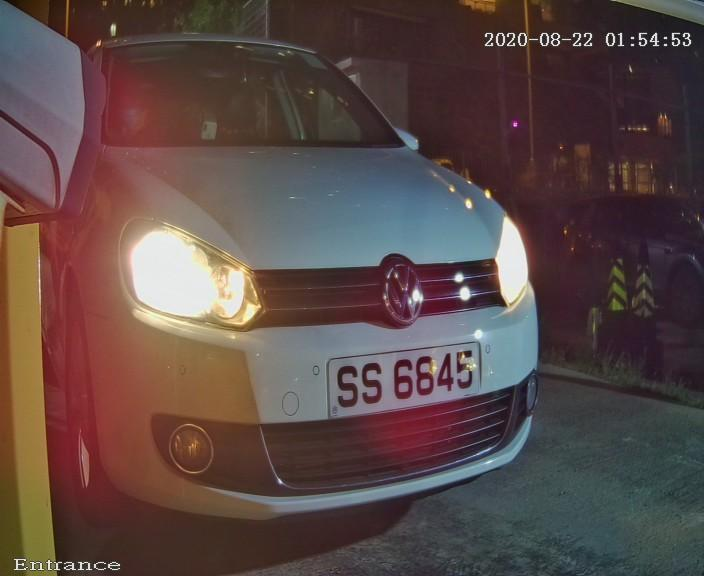Car: (7, 16, 613, 559)
License Plate: (324, 332, 491, 422)
